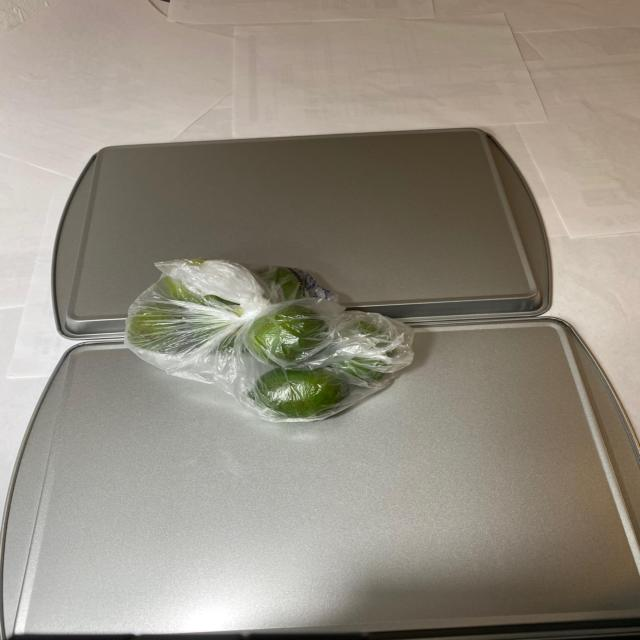lemon: (126, 264, 420, 414)
